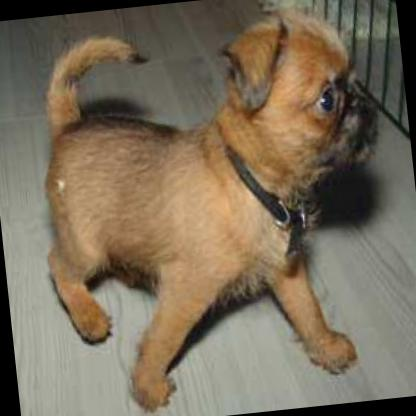Brabancon_griffon: (17, 0, 410, 416)
